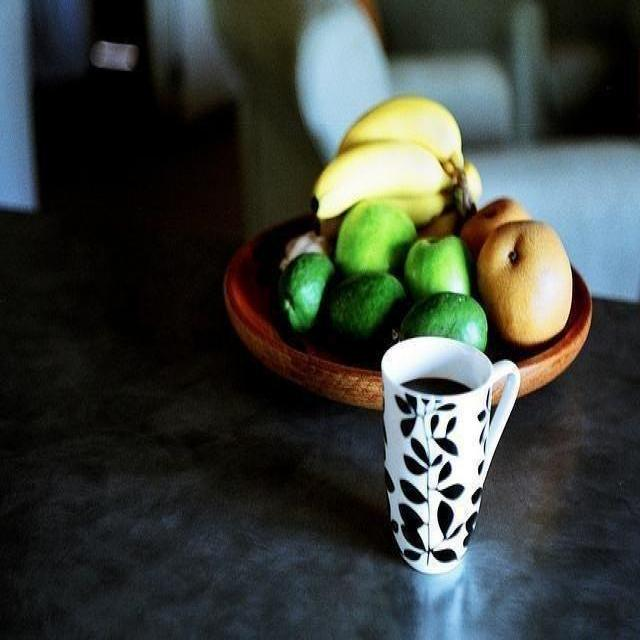cup-handle: (379, 332, 520, 575)
